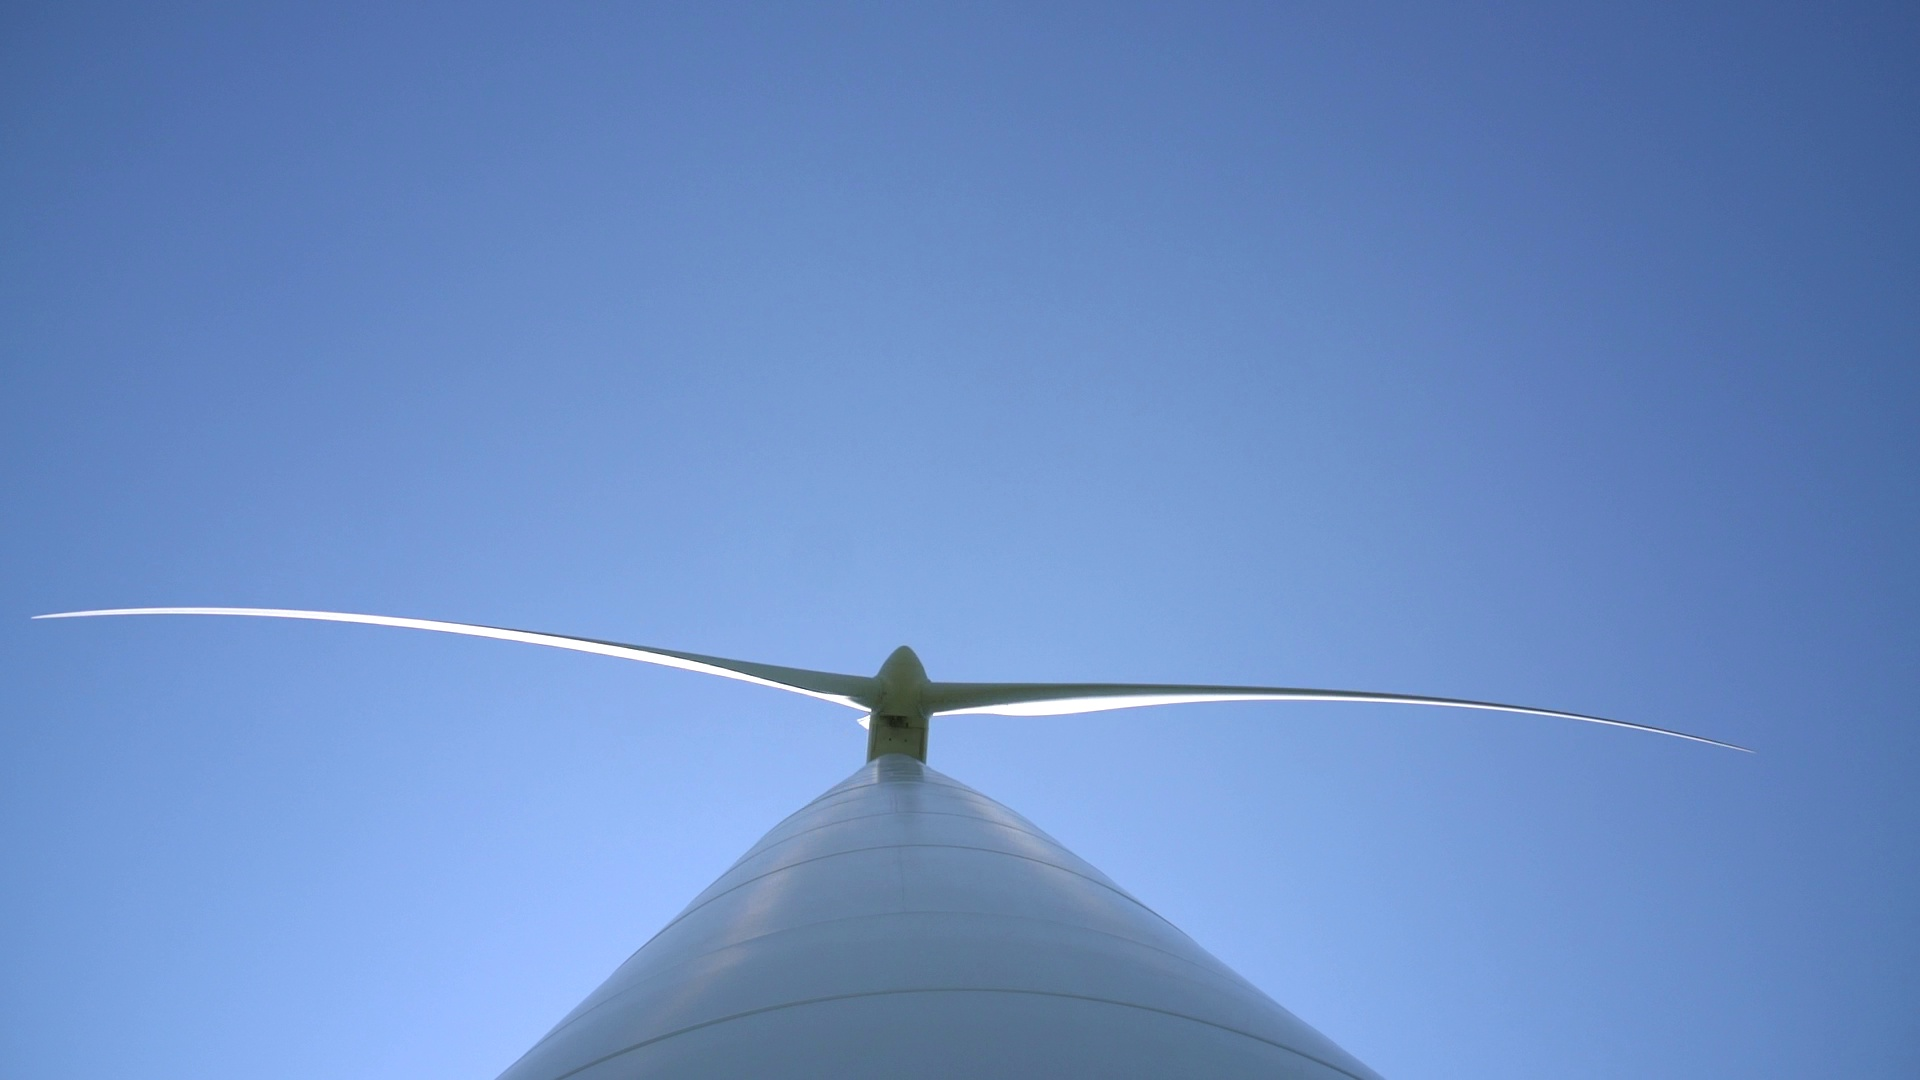turbine: (943, 634, 1811, 789), (7, 578, 874, 724)
